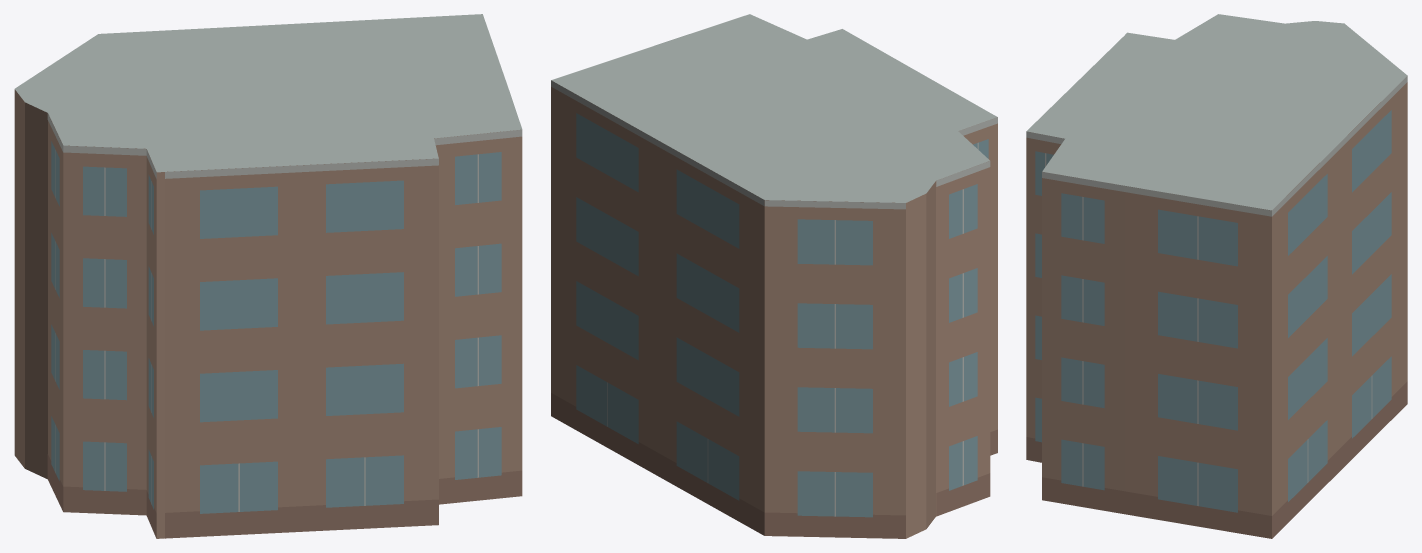
File: survey-upis-32931379.glb
3 renders of one model, left to right at view 1: azimuth 30°, elevation 25°; view 2: azimuth 150°, elevation 25°; view 3: azimuth 270°, elevation 25°, orthographic. The views are drawn at different scales.
Parts seen in each view (by area): view 1: survey-upis-32931379.tmp; view 2: survey-upis-32931379.tmp; view 3: survey-upis-32931379.tmp.
Boxes of the visible parts, box(x1,y1,x2,y2) form: survey-upis-32931379.tmp: box(14, 14, 522, 538); survey-upis-32931379.tmp: box(551, 14, 997, 538); survey-upis-32931379.tmp: box(1026, 14, 1407, 538).
Size of the model in its own units: 16.43 by 12.8 by 13.48.
